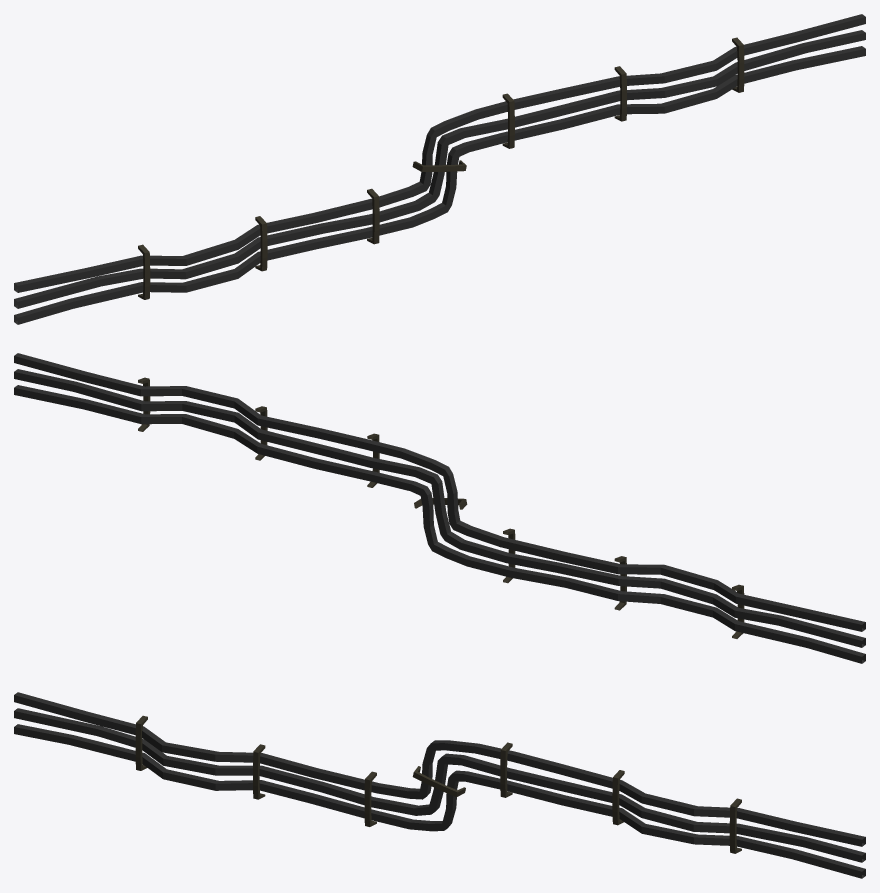
The model's file is SW_ENV_Wires3_RailTunnelWall_SBend_02_05m.fbx.
The picture shows the model from 3 angles, top to bottom: view 1: azimuth 30°, elevation 25°; view 2: azimuth 150°, elevation 25°; view 3: azimuth 330°, elevation 25°; orthographic projection.
Parts seen in each view (by area): view 1: SW_ENV_Wires3_RailTunnelWall_SBend_02_05m; view 2: SW_ENV_Wires3_RailTunnelWall_SBend_02_05m; view 3: SW_ENV_Wires3_RailTunnelWall_SBend_02_05m.
Part boxes in pixels (x1,y1,x2,y2): SW_ENV_Wires3_RailTunnelWall_SBend_02_05m: (14,14,865,324); SW_ENV_Wires3_RailTunnelWall_SBend_02_05m: (14,353,865,663); SW_ENV_Wires3_RailTunnelWall_SBend_02_05m: (14,692,865,878).
Bounding box in the file's own units: 500 × 63.66 × 14.88.
